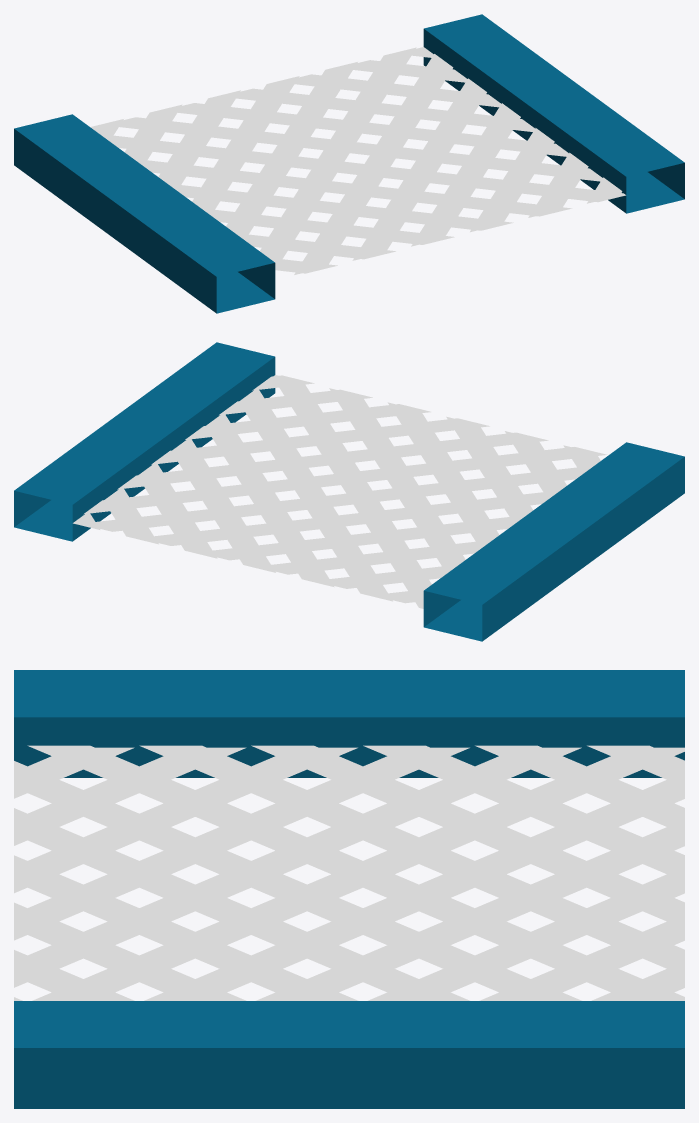
The model's file is G02_019_Floor_Mesh_AD.fbx.
3 views of the same model, one above another, from view 1: azimuth 30°, elevation 25°; view 2: azimuth 150°, elevation 25°; view 3: azimuth 270°, elevation 25° (orthographic). The views are drawn at different scales.
Parts seen in each view (by area): view 1: 平面.038, 008_Mesh_AD_B; view 2: 平面.038, 008_Mesh_AD_B; view 3: 平面.038, 008_Mesh_AD_B.
Boxes of the visible parts, x1,y1,x2,y2 form: 平面.038: (91, 47, 625, 274); 008_Mesh_AD_B: (14, 14, 684, 313); 平面.038: (73, 375, 607, 608); 008_Mesh_AD_B: (14, 342, 684, 641); 平面.038: (14, 745, 684, 1000); 008_Mesh_AD_B: (14, 670, 684, 1108).
Bounding box in the file's own units: 400 × 30 × 300.
